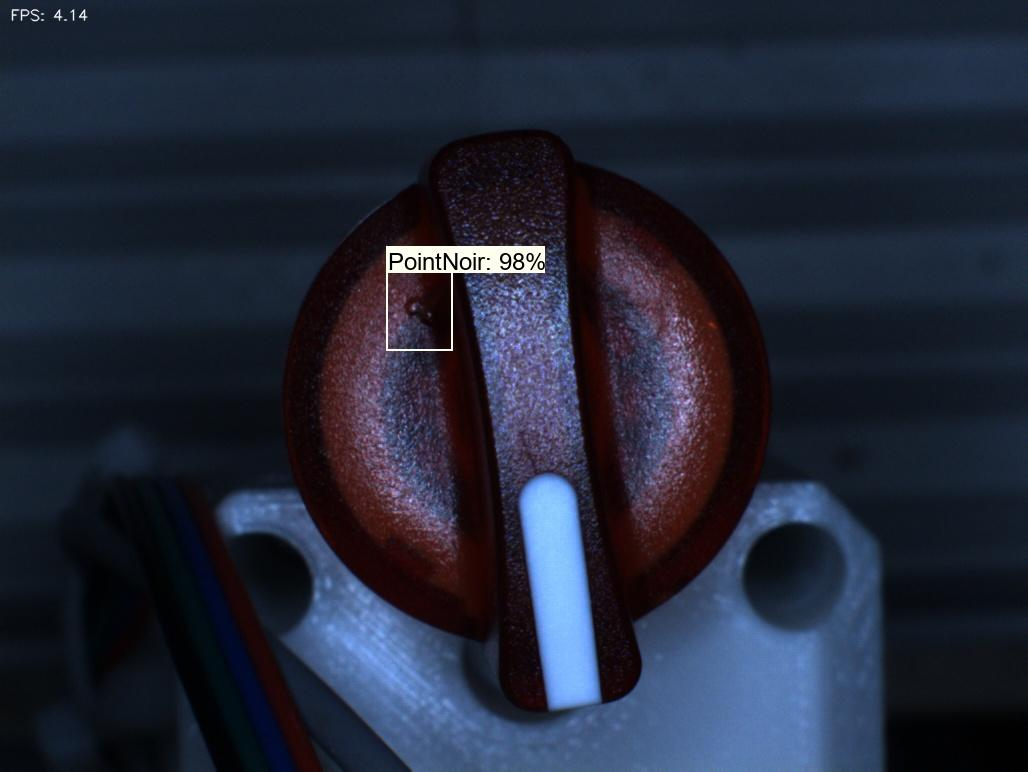Choc: (379, 277, 458, 358)
